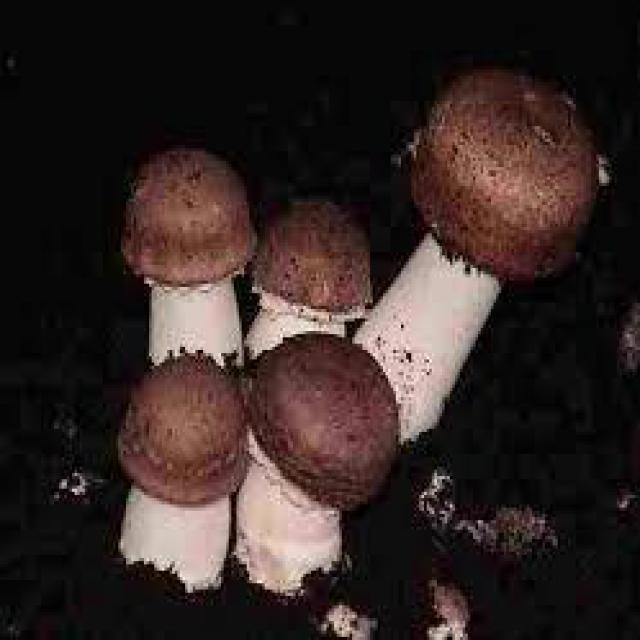Agaricus blazei Murill: (122, 64, 595, 590)
